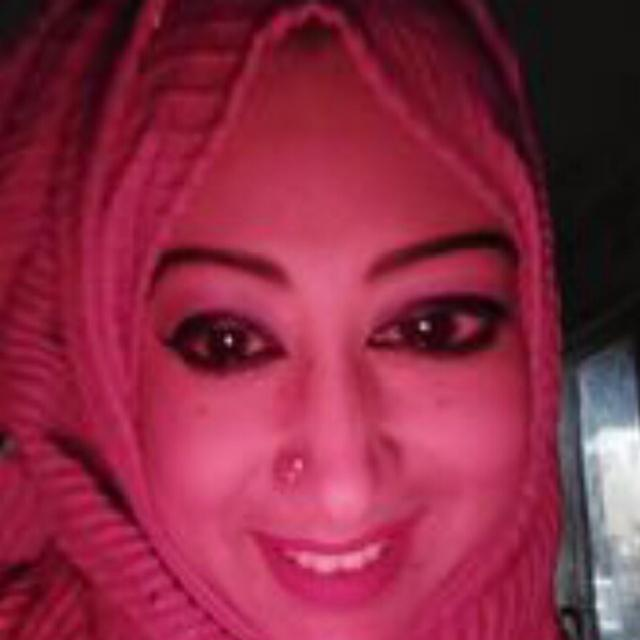Happy: (76, 152, 564, 638)
